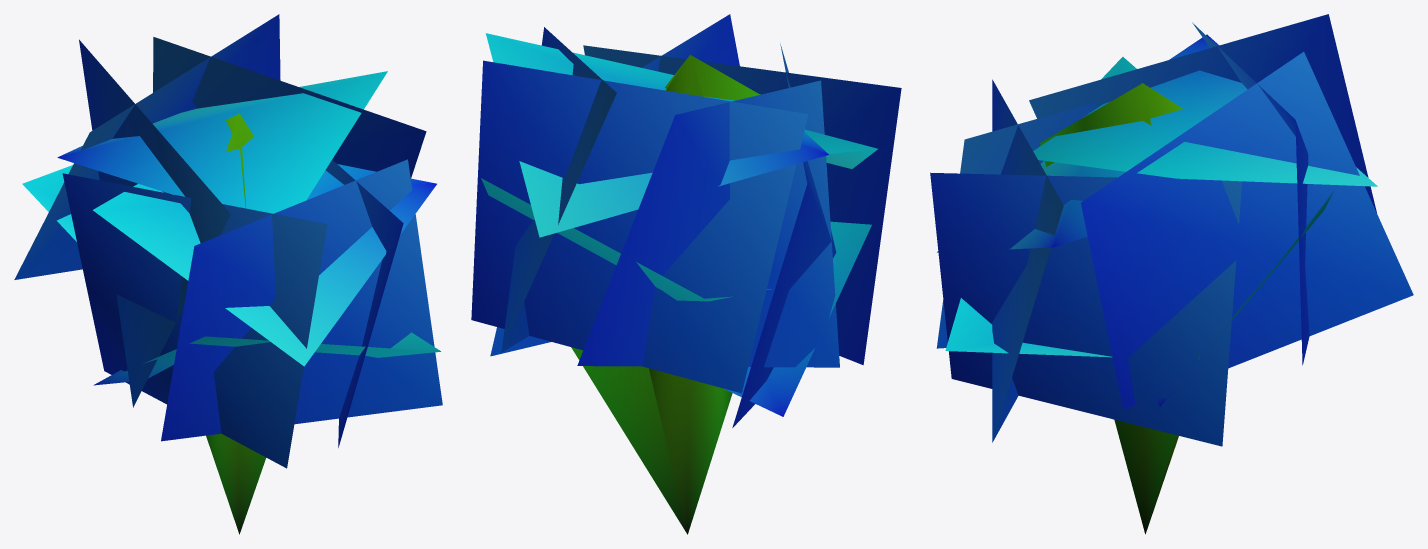
File: tree_aspen_bush_a.dae
3 renders of one model, left to right at view 1: azimuth 30°, elevation 25°; view 2: azimuth 150°, elevation 25°; view 3: azimuth 270°, elevation 25°, orthographic. The views are drawn at different scales.
Parts seen in each view (by area): view 1: tree_oak_bush_a210; view 2: tree_oak_bush_a210; view 3: tree_oak_bush_a210.
Boxes of the visible parts, x1,y1,x2,y2 form: tree_oak_bush_a210: [14, 14, 442, 534]; tree_oak_bush_a210: [471, 14, 901, 534]; tree_oak_bush_a210: [930, 14, 1413, 534].
Size of the model in its own units: 1.06 by 1.3 by 1.43.
